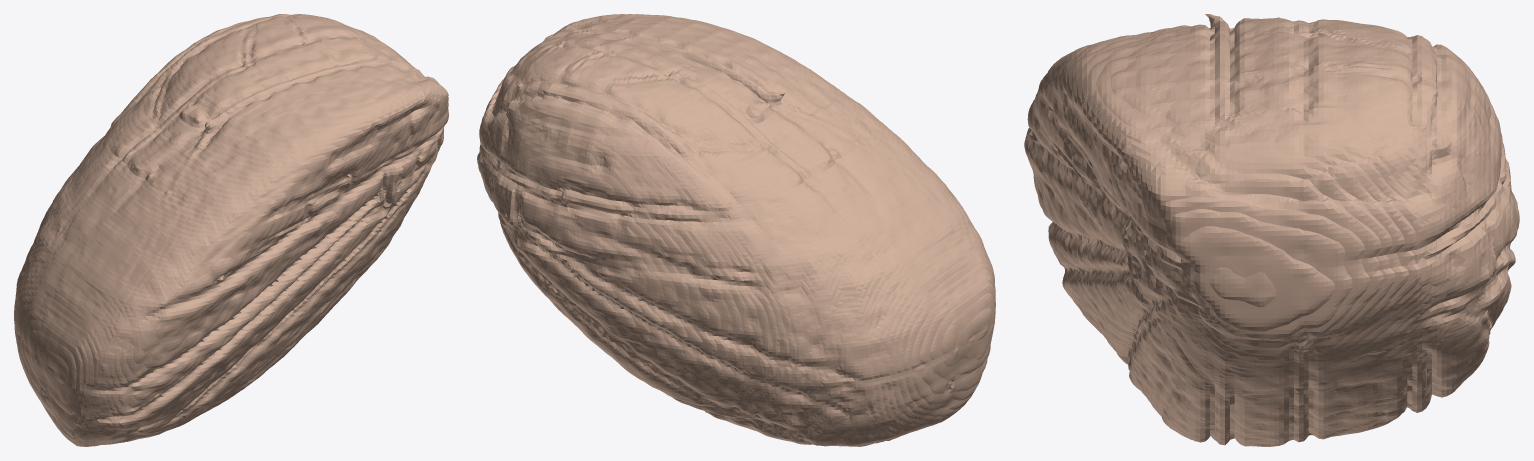
The model's file is raw.glb.
3 views of the same model, side by side, from view 1: azimuth 30°, elevation 25°; view 2: azimuth 150°, elevation 25°; view 3: azimuth 270°, elevation 25° (orthographic). The views are drawn at different scales.
Visible parts, largest first — view 1: world; view 2: world; view 3: world.
Boxes of the visible parts, x1,y1,x2,y2 form: world: (14, 14, 448, 446); world: (477, 14, 995, 446); world: (1024, 14, 1519, 446).
Bounding box in the file's own units: 0.45 × 0.3451 × 0.3138.
